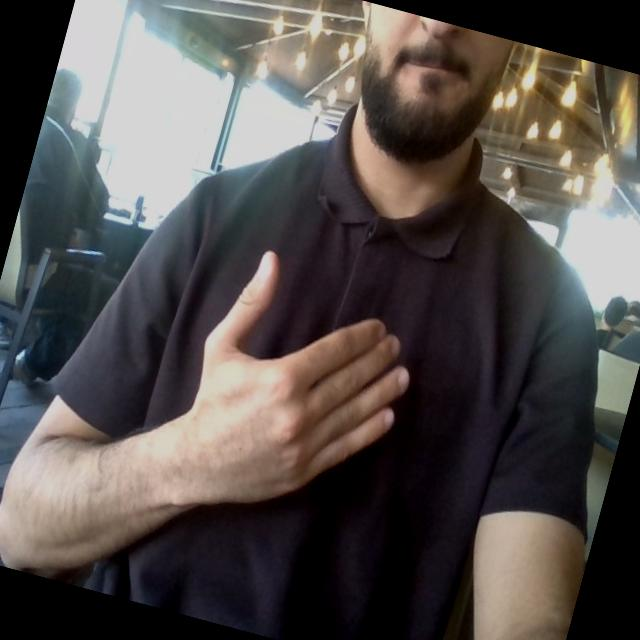Hand: (178, 252, 408, 503)
